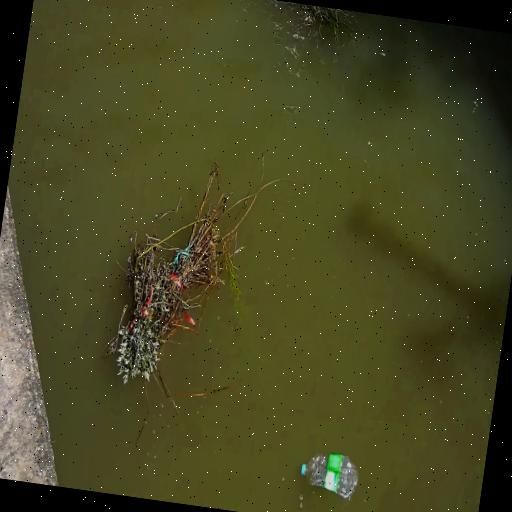plastic: (300, 454, 357, 499), (300, 464, 305, 475)
twig: (104, 152, 291, 414), (304, 4, 348, 25)
